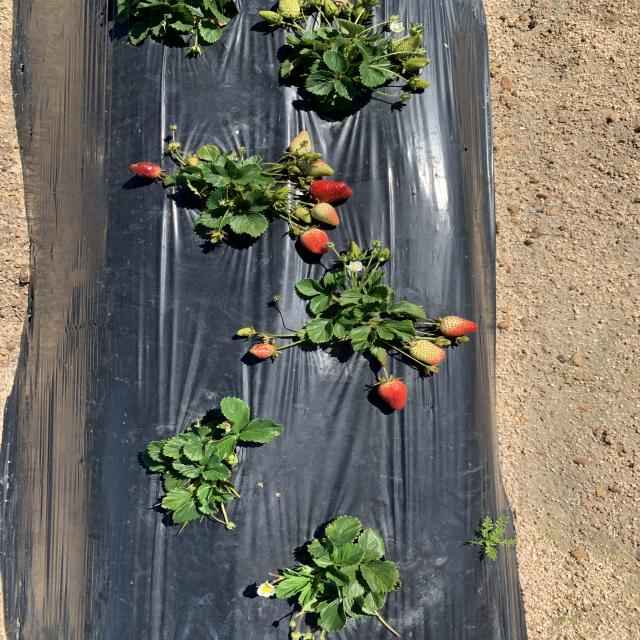unripe: (372, 374, 414, 410), (304, 178, 359, 204), (302, 228, 331, 256), (126, 160, 162, 180)
